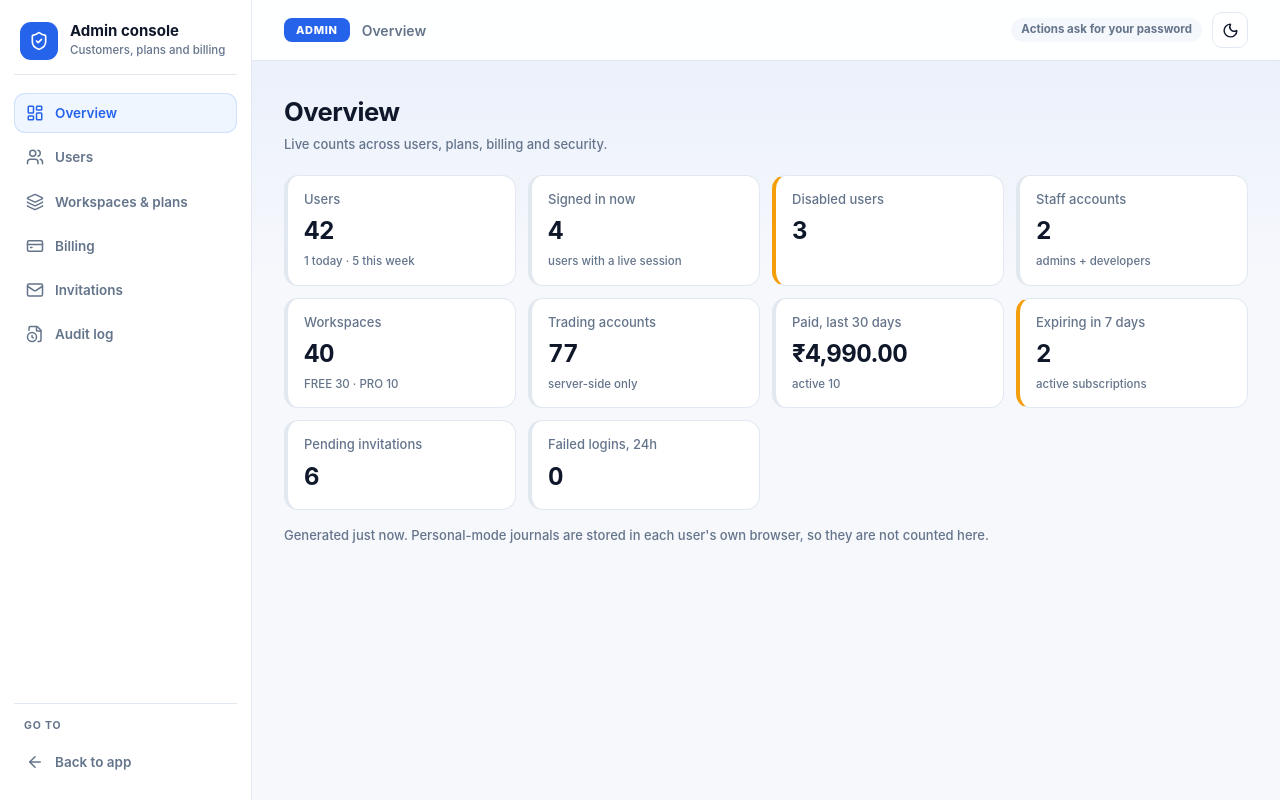
it: Users › shows a readable message when a user cannot be loaded
Click the tab "Users" at (126, 157), box 14,137 -> 237,178
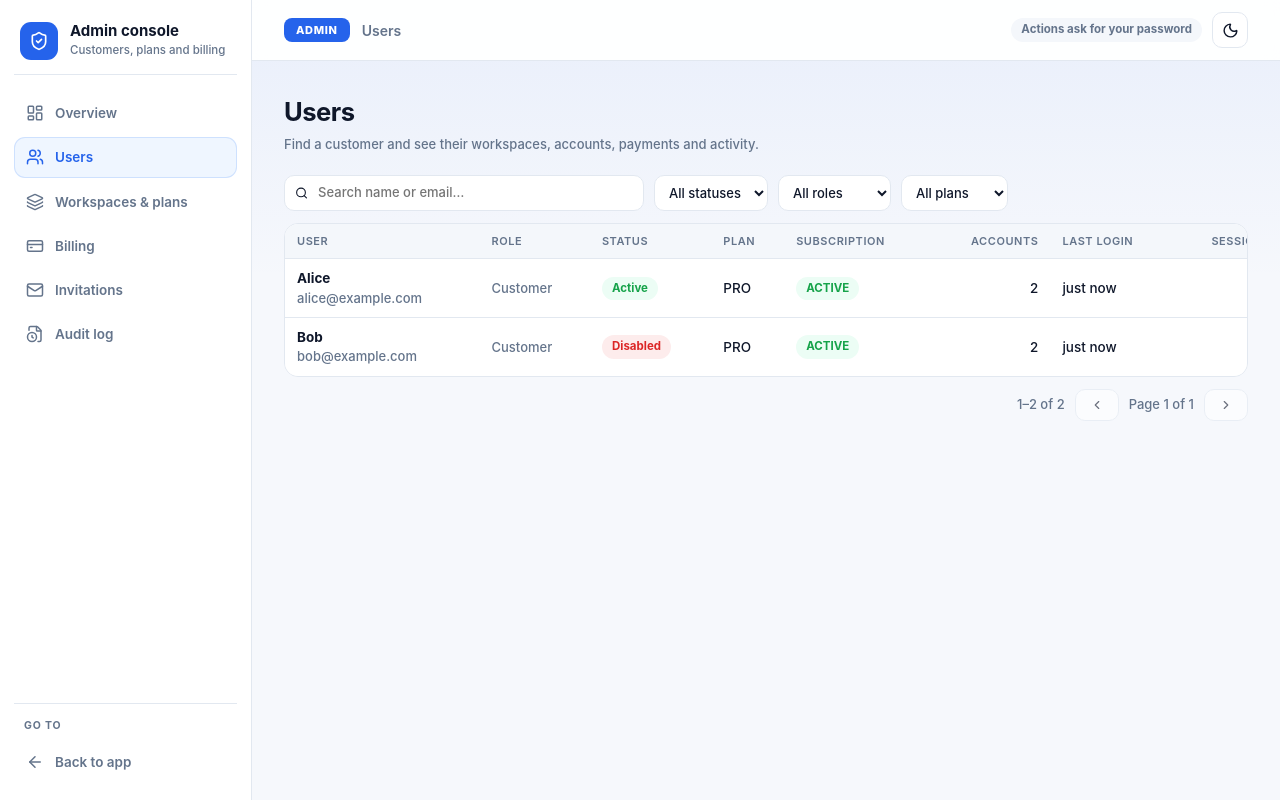
Click the row with class "adm-clickable" that starts with "Alice" at (782, 288), box 285,259 -> 1279,318
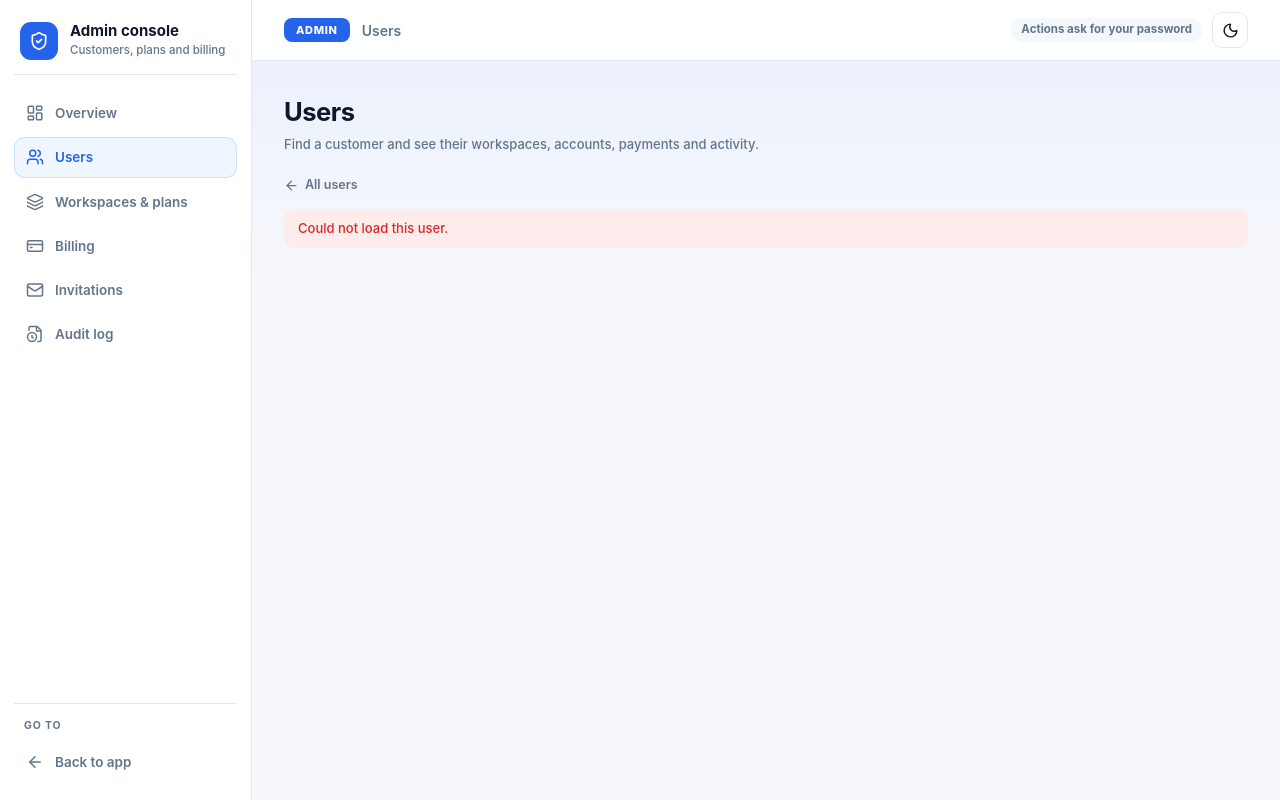
Result: the text "Could not load this user" is shown at 298,220 -> 448,236
